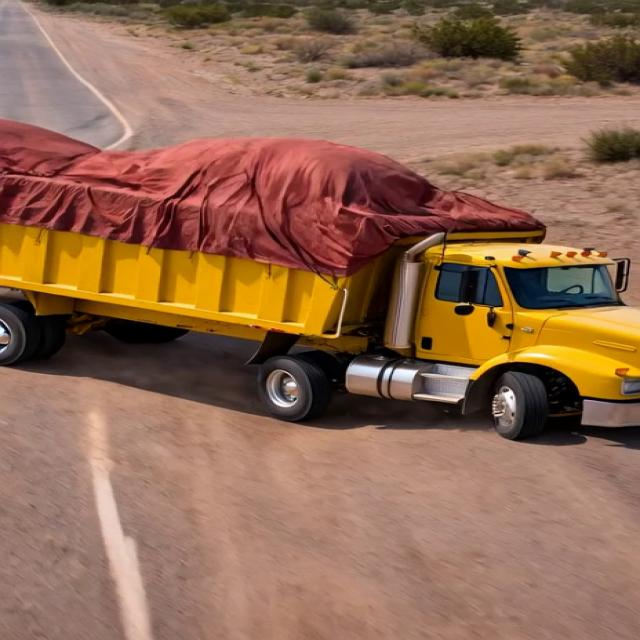trailer: (0, 122, 576, 234)
truck: (0, 123, 629, 455)
